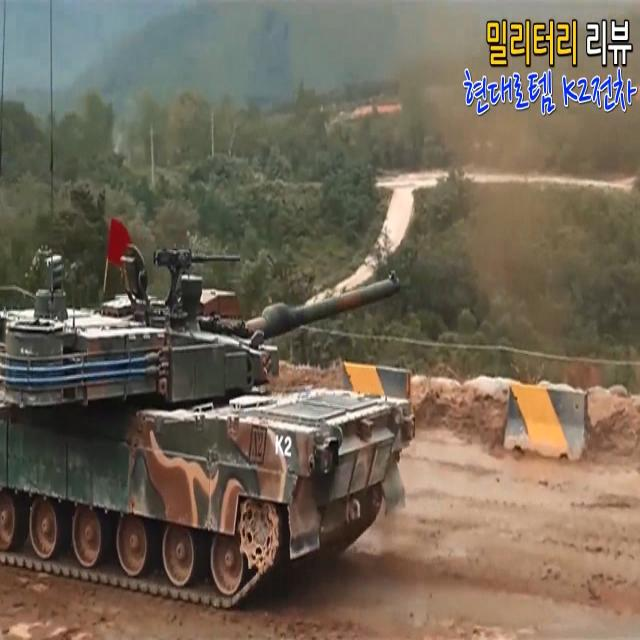korea tank: (1, 250, 420, 610)
